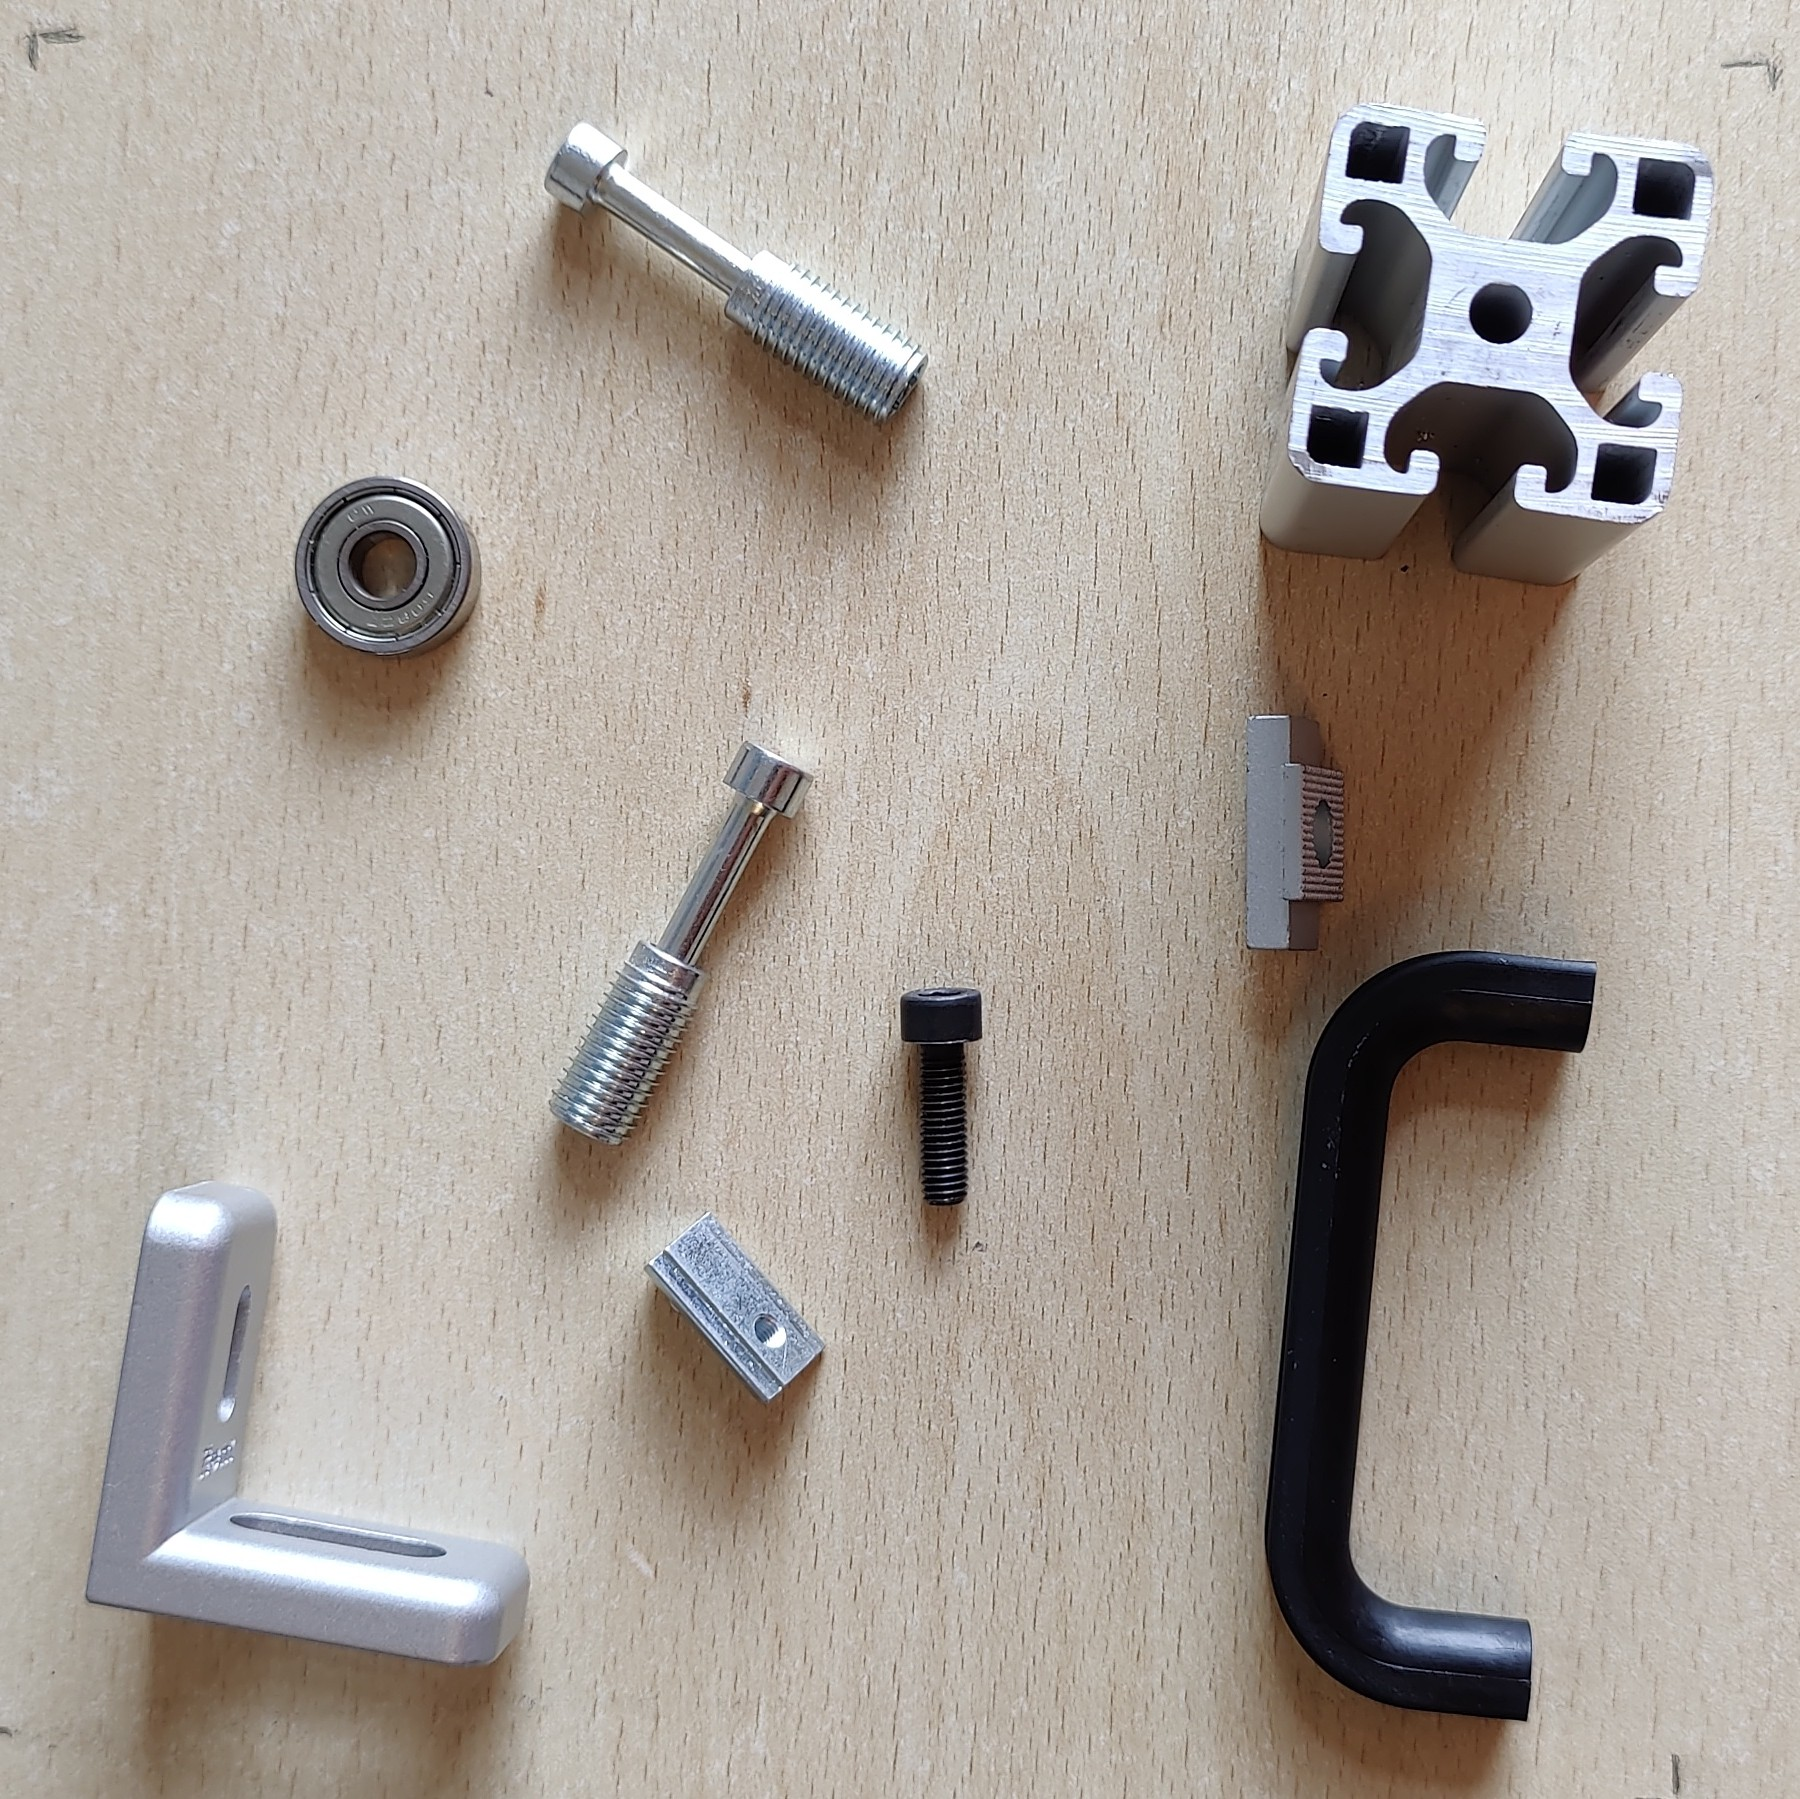Aluminium Extension: (1257, 100, 1718, 590)
Ball Bearing: (291, 478, 483, 662)
Multiwinkel: (81, 1176, 534, 1670)
Pull Handle: (1258, 946, 1601, 1727)
Shoulder Socket Head Cap Screw: (540, 119, 932, 435), (543, 736, 815, 1150)
Socket Head Cap Screw: (896, 980, 985, 1206)
T Nut Square: (1238, 708, 1350, 957)
T Spring Nut: (641, 1208, 828, 1407)
